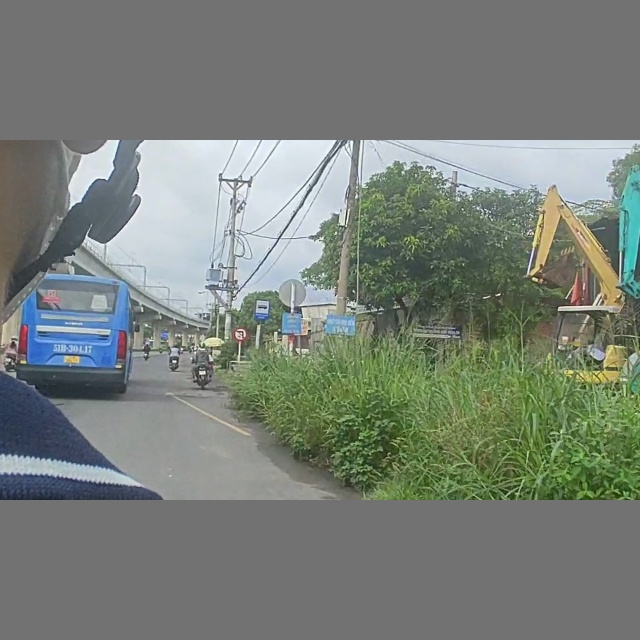I.434a: (254, 298, 271, 321)
P.123a: (235, 325, 248, 342)
